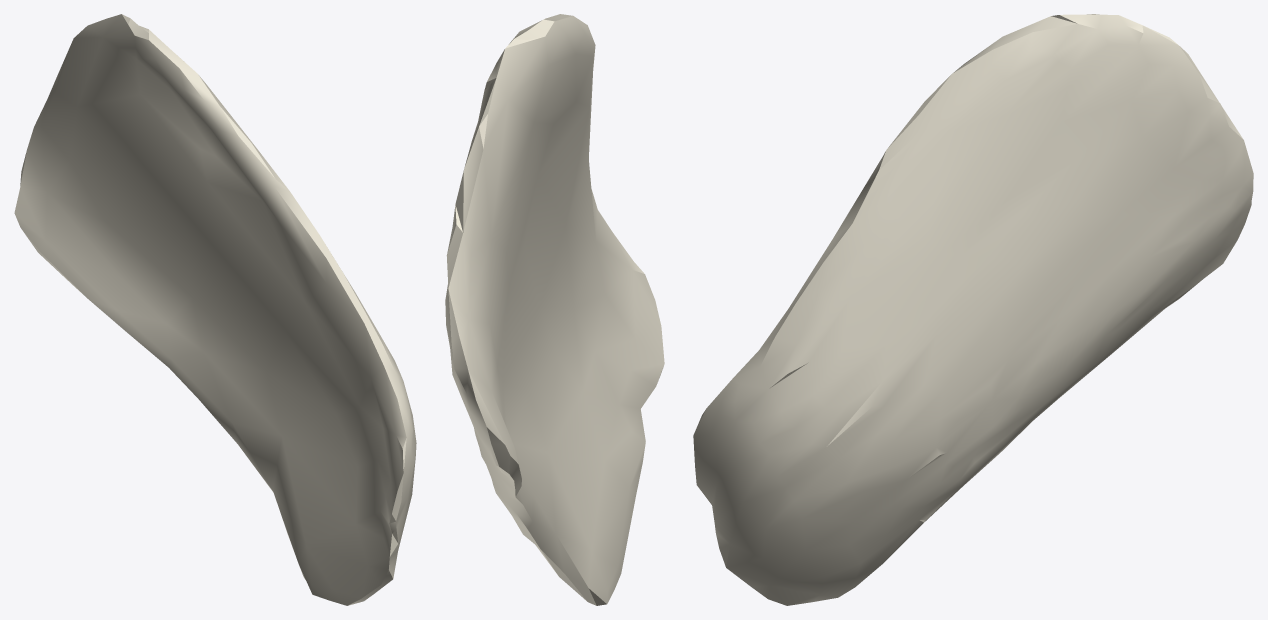
File: fma321706-r_mm1483m.glb
The picture shows the model from 3 angles, left to right: view 1: azimuth 30°, elevation 25°; view 2: azimuth 150°, elevation 25°; view 3: azimuth 270°, elevation 25°; orthographic projection. The views are drawn at different scales.
Visible parts, largest first — view 1: FMA321706-R_MM1483M; view 2: FMA321706-R_MM1483M; view 3: FMA321706-R_MM1483M.
Part boxes in pixels (left/top/right/bottom): FMA321706-R_MM1483M: left=14, top=14, right=416, bottom=605; FMA321706-R_MM1483M: left=445, top=14, right=664, bottom=605; FMA321706-R_MM1483M: left=693, top=14, right=1253, bottom=605.
Size of the model in its own units: 0.00316 by 0.00802 by 0.00739.
